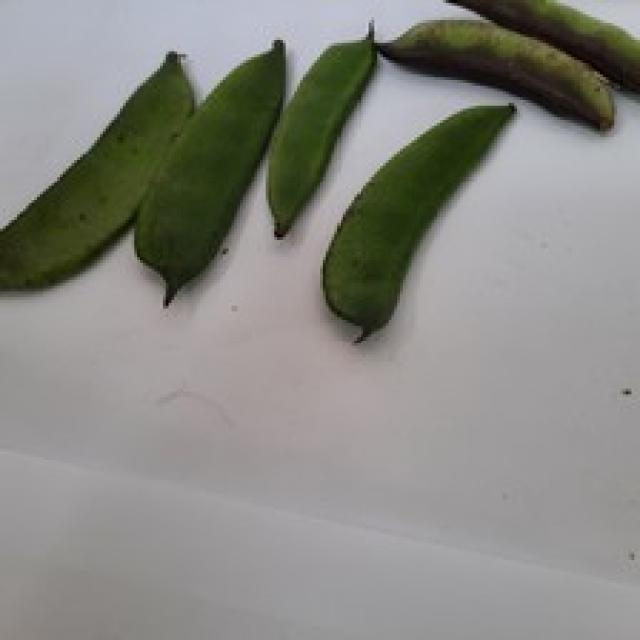Bean: (0, 48, 194, 291), (320, 100, 514, 343), (131, 34, 286, 306), (374, 15, 614, 132), (263, 17, 377, 237), (437, 0, 637, 103)
